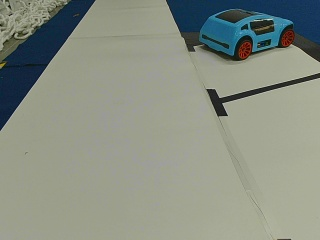car: (199, 11, 293, 60)
